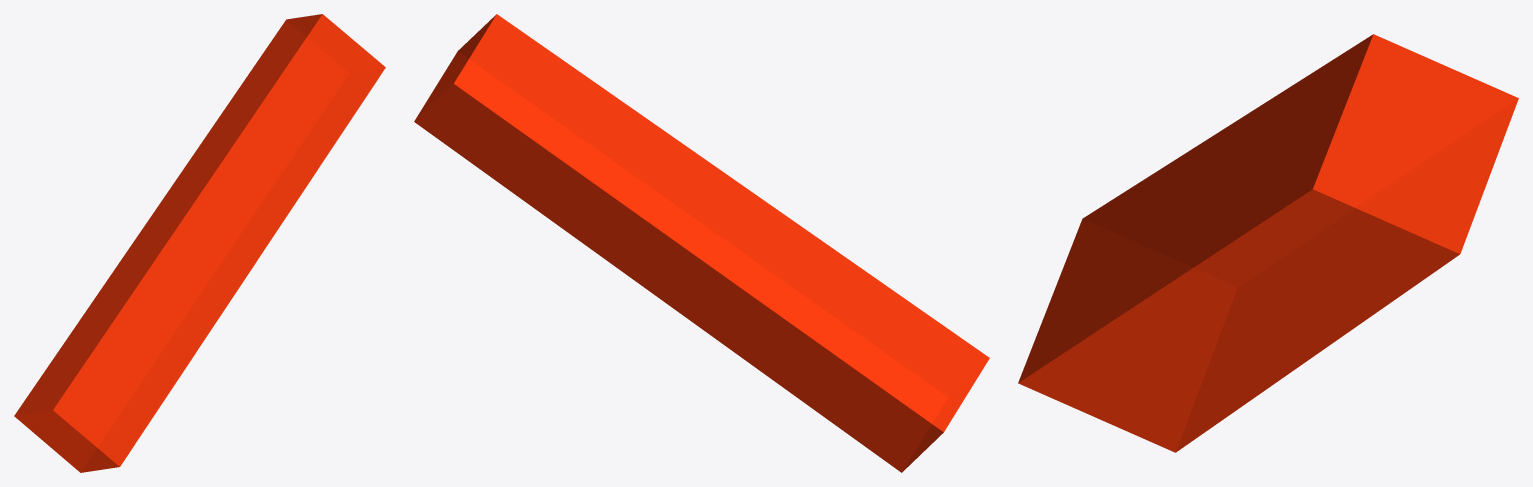
The model's file is Event_421115418_EBrechit_13.fbx.
The picture shows the model from 3 angles, left to right: view 1: azimuth 30°, elevation 25°; view 2: azimuth 150°, elevation 25°; view 3: azimuth 270°, elevation 25°; orthographic projection. The views are drawn at different scales.
Parts seen in each view (by area): view 1: Model; view 2: Model; view 3: Model.
Part boxes in pixels (box(x1,y1,x2,y2)): Model: box(14, 14, 385, 472); Model: box(414, 14, 989, 472); Model: box(1018, 34, 1518, 452).
Size of the model in its own units: 0.3085 by 0.2654 by 0.1713.
